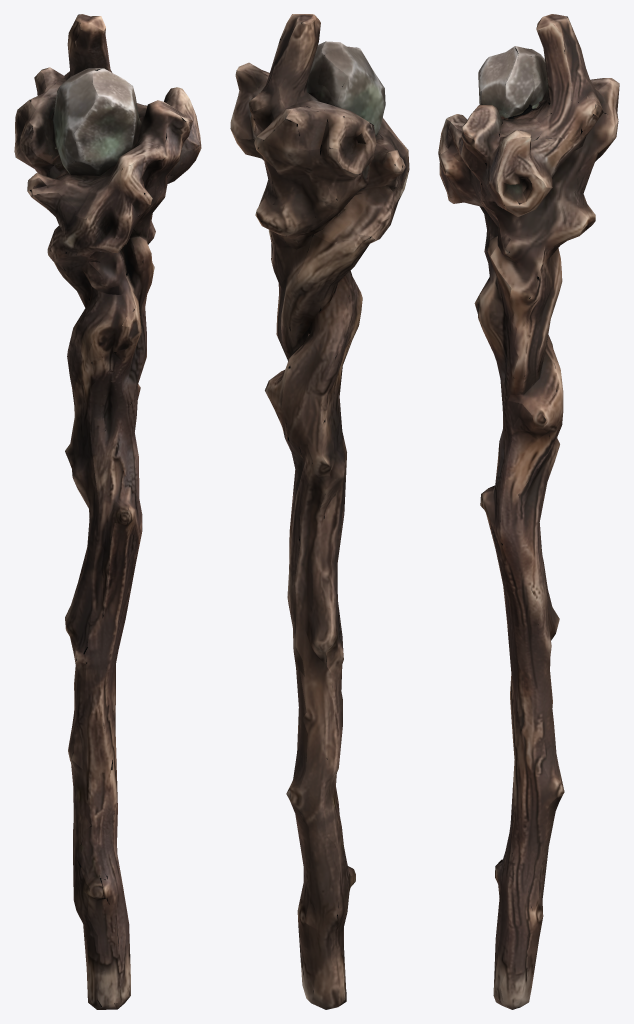
Rendered from SM_Staff_Nature_Channeling_Staff.FBX.
The picture shows the model from 3 angles, left to right: view 1: azimuth 30°, elevation 25°; view 2: azimuth 150°, elevation 25°; view 3: azimuth 270°, elevation 25°; orthographic projection. The views are drawn at different scales.
Visible parts, largest first — view 1: SM_Staff_Nature_Channeling_Staff; view 2: SM_Staff_Nature_Channeling_Staff; view 3: SM_Staff_Nature_Channeling_Staff.
Boxes of the visible parts, x1=… form: SM_Staff_Nature_Channeling_Staff: x1=14, y1=14, x2=201, y2=1009; SM_Staff_Nature_Channeling_Staff: x1=230, y1=14, x2=409, y2=1009; SM_Staff_Nature_Channeling_Staff: x1=438, y1=14, x2=619, y2=1009.
Size of what is drawn, in the model's own units: 28.1 by 26.73 by 160.
